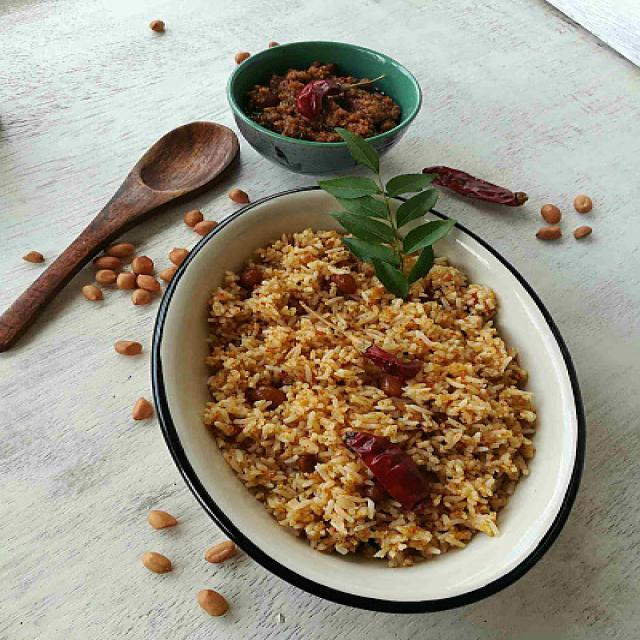puliyogare: (187, 214, 559, 586)
